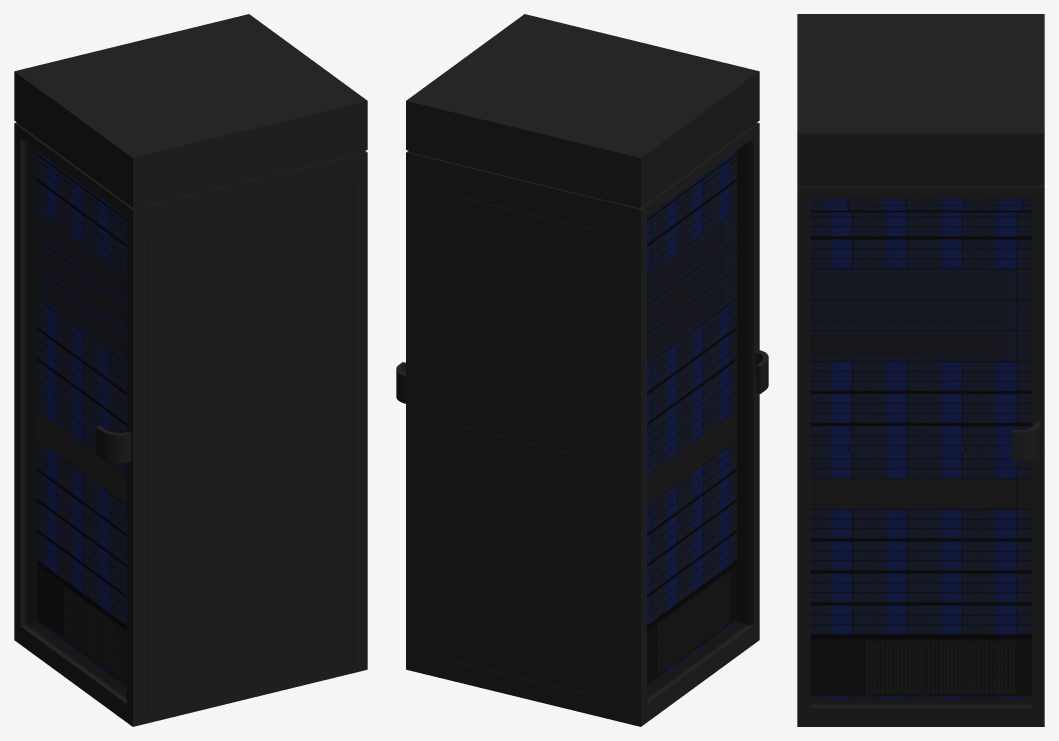
Rendered from data_center_rack.glb.
3 renders of one model, left to right at view 1: azimuth 30°, elevation 25°; view 2: azimuth 150°, elevation 25°; view 3: azimuth 270°, elevation 25°, orthographic. The views are drawn at different scales.
Visible parts, largest first — view 1: Object_2, Object_4, Object_3; view 2: Object_2, Object_4, Object_3; view 3: Object_4, Object_3, Object_2.
Boxes of the visible parts, x1,y1,x2,y2 form: Object_2: (14,14,367,726); Object_4: (25,142,126,698); Object_3: (37,151,126,687); Object_2: (396,14,768,726); Object_4: (647,142,748,698); Object_3: (647,151,736,687); Object_4: (810,199,1031,704); Object_3: (810,199,1031,699); Object_2: (797,14,1044,726).
Bounding box in the file's own units: 1.16 × 2.31 × 0.8749.
3 materials, 1 textured.
